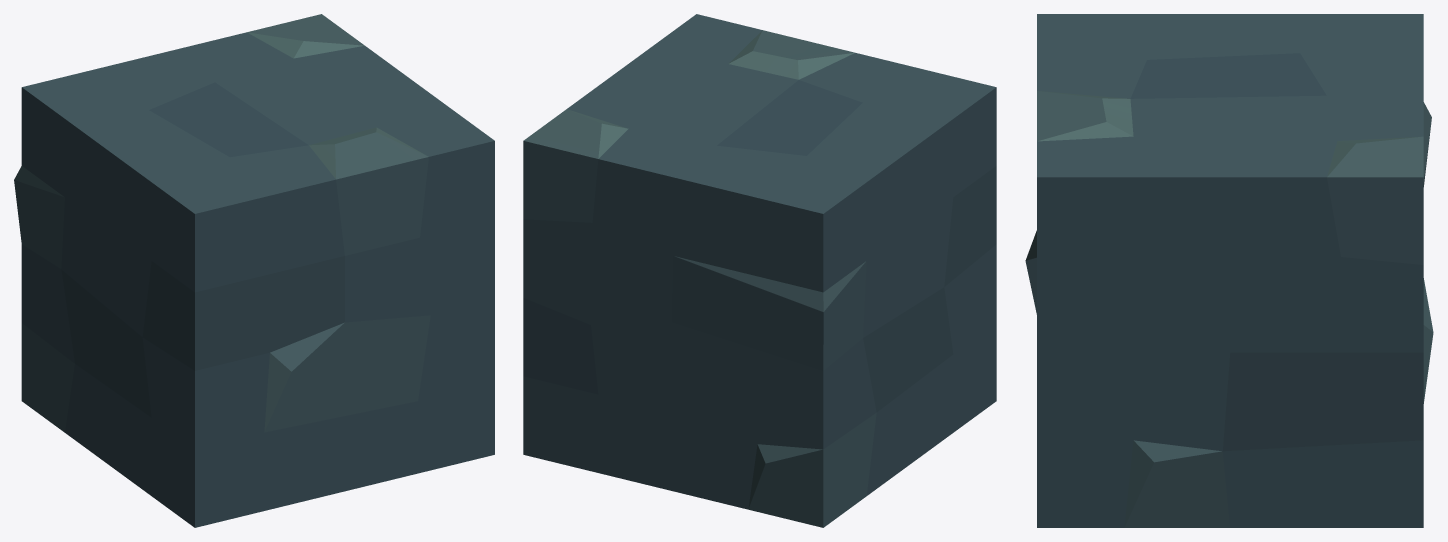
Rendered from backfill_2m.fbx.
3 renders of one model, left to right at view 1: azimuth 30°, elevation 25°; view 2: azimuth 150°, elevation 25°; view 3: azimuth 270°, elevation 25°, orthographic. The views are drawn at different scales.
Parts seen in each view (by area): view 1: backfill_2m; view 2: backfill_2m; view 3: backfill_2m.
Part boxes in pixels (bbox=[...]): backfill_2m: bbox=[14, 14, 494, 527]; backfill_2m: bbox=[523, 14, 996, 527]; backfill_2m: bbox=[1025, 14, 1433, 527].
Bounding box in the file's own units: 207 × 209 × 211.
